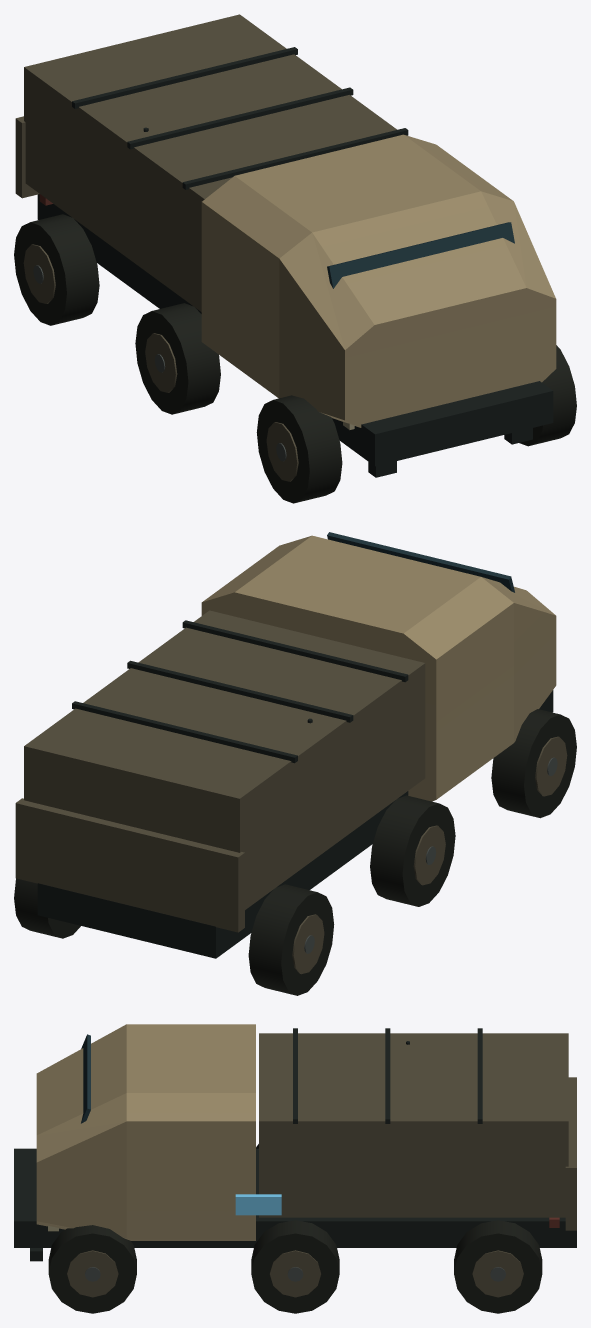
The model's file is logiTruck-lod.glb.
The picture shows the model from 3 angles, top to bottom: view 1: azimuth 30°, elevation 25°; view 2: azimuth 150°, elevation 25°; view 3: azimuth 270°, elevation 25°; orthographic projection. The views are drawn at different scales.
Parts seen in each view (by area): view 1: equipment; view 2: equipment; view 3: equipment, marking.
Boxes of the visible parts, box(x1,y1,x2,y2) form: equipment: box(14, 14, 576, 503); equipment: box(14, 532, 576, 995); equipment: box(14, 1024, 576, 1313); marking: box(235, 1194, 281, 1215).
Size of the model in its own units: 2.84 by 2.4 by 6.1.
